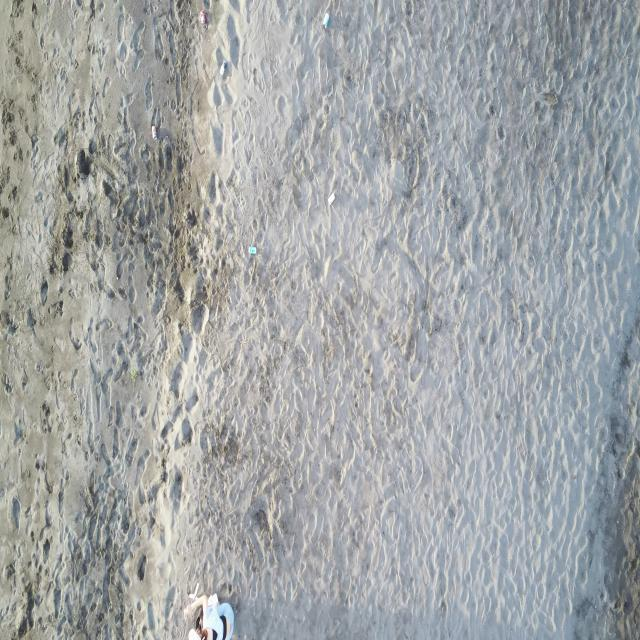tin-and-aluminum-cans: (219, 59, 227, 76), (322, 12, 330, 28), (327, 192, 336, 206), (151, 124, 158, 140), (248, 244, 257, 256), (200, 9, 206, 24)
